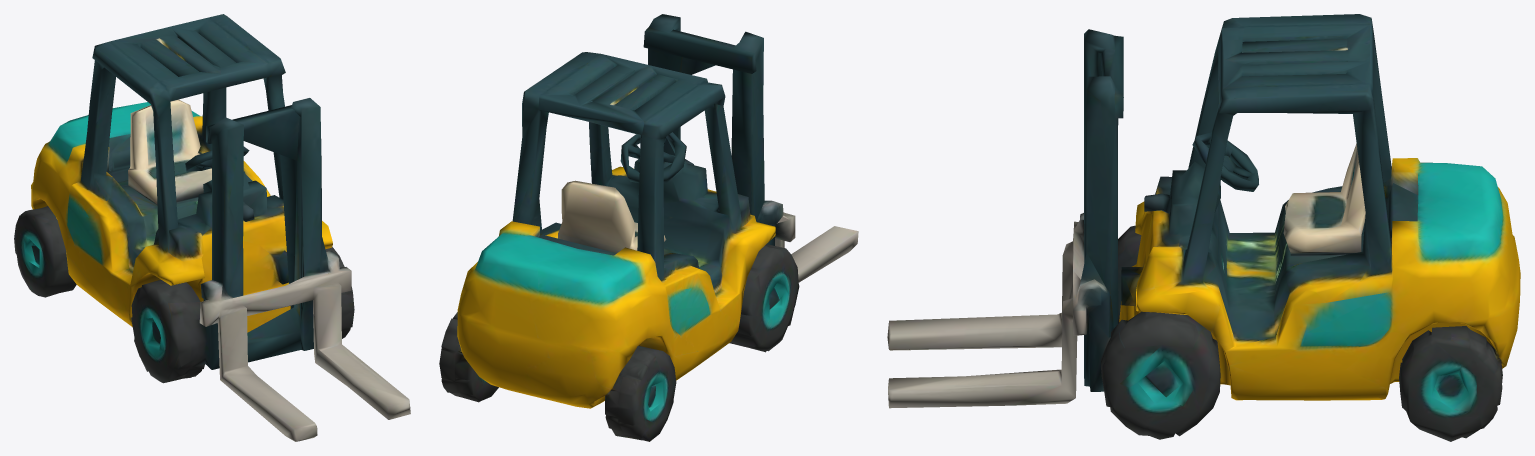
File: articulated-experimental.glb
The picture shows the model from 3 angles, left to right: view 1: azimuth 30°, elevation 25°; view 2: azimuth 150°, elevation 25°; view 3: azimuth 270°, elevation 25°; orthographic projection. The views are drawn at different scales.
Parts seen in each view (by area): view 1: body, carriage-and-two-blades; view 2: body, carriage-and-two-blades; view 3: body, carriage-and-two-blades.
Boxes of the visible parts, <box> form: body: <box>14,14,354,383</box>; carriage-and-two-blades: <box>199,251,410,441</box>; body: <box>439,14,799,441</box>; carriage-and-two-blades: <box>762,200,858,282</box>; body: <box>1080,14,1520,441</box>; carriage-and-two-blades: <box>887,213,1104,408</box>.
Bounding box in the file's own units: 1.61 × 2.2 × 3.79.
Materials: 1 (1 with a texture image).
